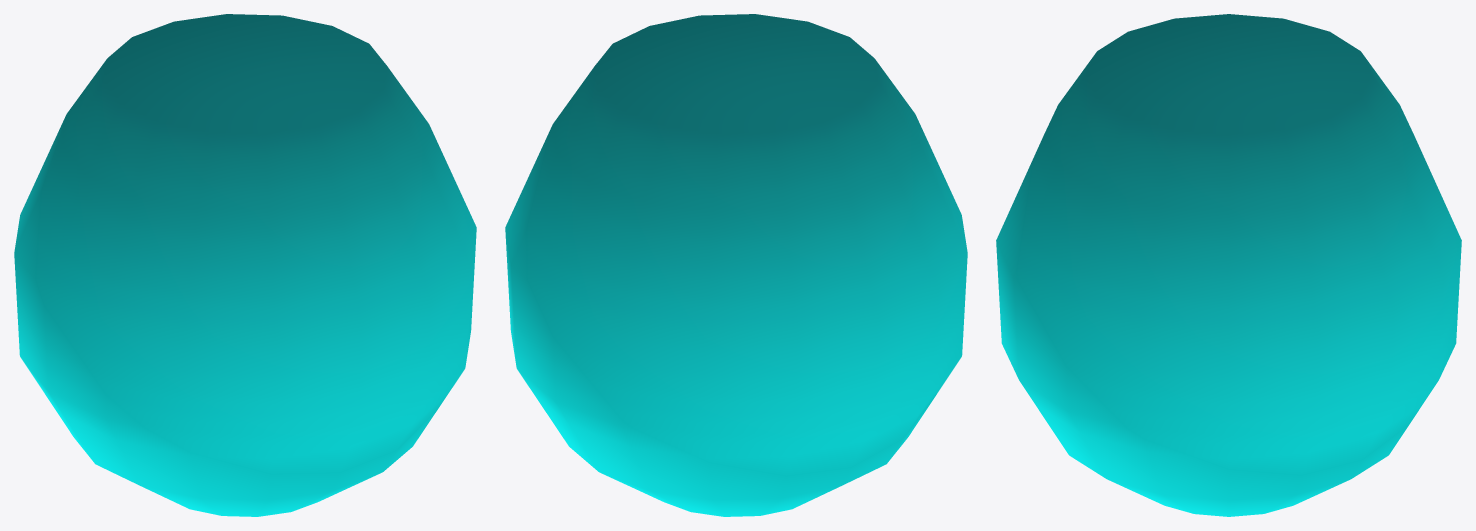
The model's file is WaterDrop_65.glb.
3 renders of one model, left to right at view 1: azimuth 30°, elevation 25°; view 2: azimuth 150°, elevation 25°; view 3: azimuth 270°, elevation 25°, orthographic.
Parts seen in each view (by area): view 1: WaterDrop_65; view 2: WaterDrop_65; view 3: WaterDrop_65.
Part boxes in pixels (x1=…): WaterDrop_65: x1=14, y1=14, x2=476, y2=516; WaterDrop_65: x1=505, y1=14, x2=967, y2=516; WaterDrop_65: x1=996, y1=14, x2=1461, y2=516.
Size of the model in its own units: 0.5885 by 0.5783 by 0.5885.
Materials: 1 (1 with a texture image).
